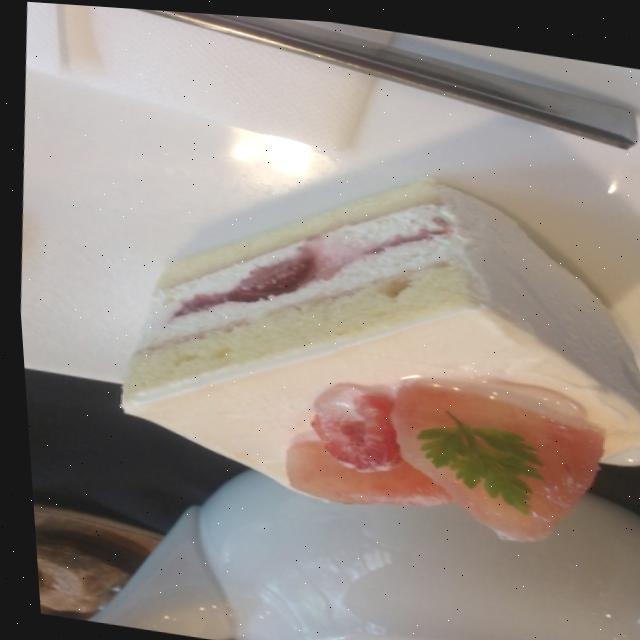蛋糕甜品: (89, 118, 640, 568)
